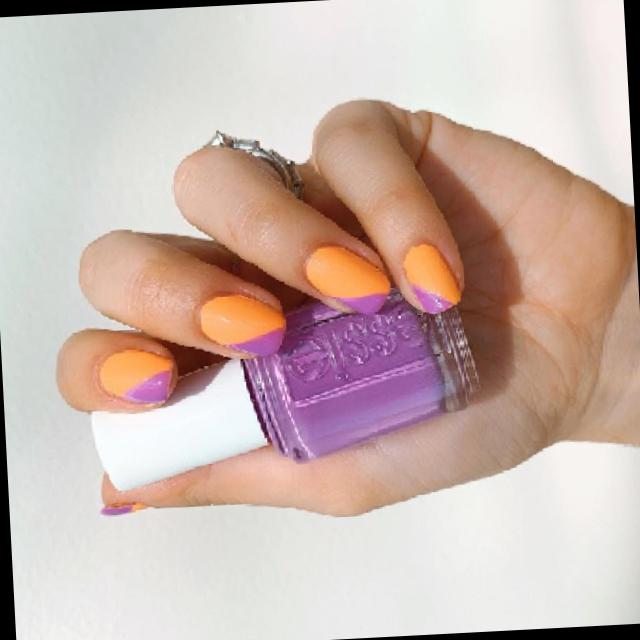Nail: (306, 245, 390, 313), (199, 293, 284, 356), (100, 349, 173, 402), (405, 245, 459, 313), (102, 504, 145, 513)
